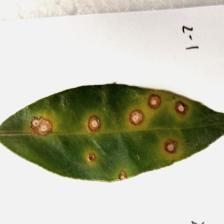canker: (18, 89, 194, 183)
